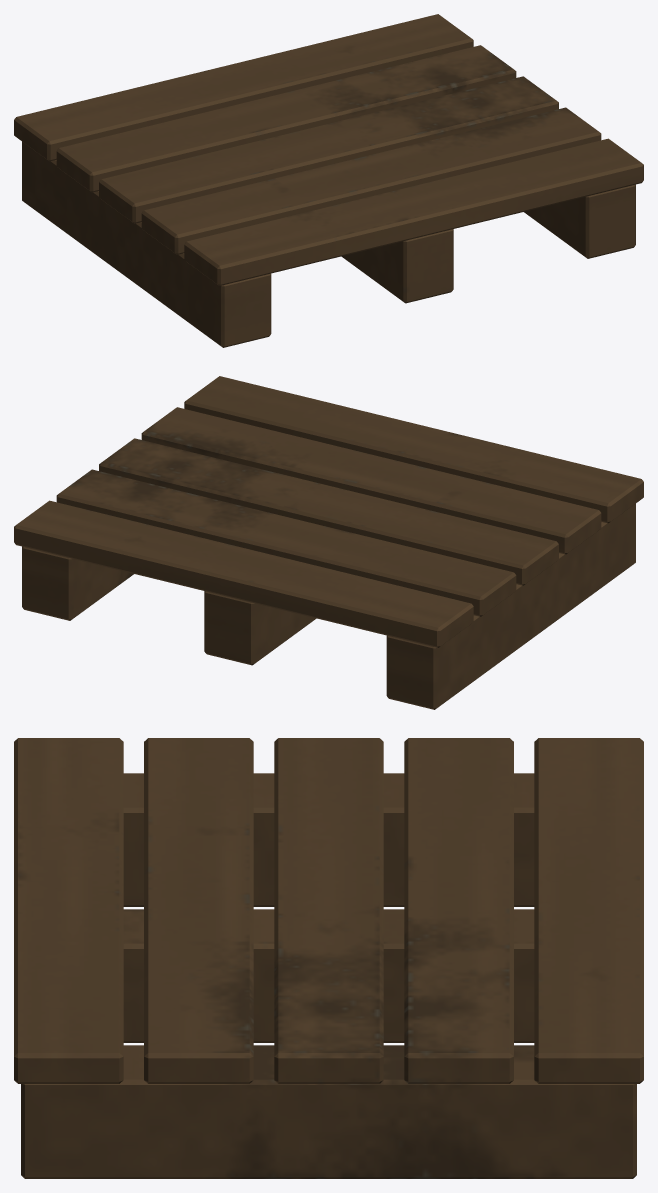
The model's file is wood_pallet.glb.
3 renders of one model, top to bottom at view 1: azimuth 30°, elevation 25°; view 2: azimuth 150°, elevation 25°; view 3: azimuth 270°, elevation 25°, orthographic. The views are drawn at different scales.
Visible parts, largest first — view 1: wood_pallet; view 2: wood_pallet; view 3: wood_pallet.
Part boxes in pixels (box(x1,y1,x2,y2)): wood_pallet: box(14, 14, 643, 347); wood_pallet: box(14, 376, 643, 709); wood_pallet: box(14, 738, 643, 1178).
Size of what is drawn, in the model's own units: 1.1 by 0.21 by 0.92.
Materials: 1 (1 with a texture image).
